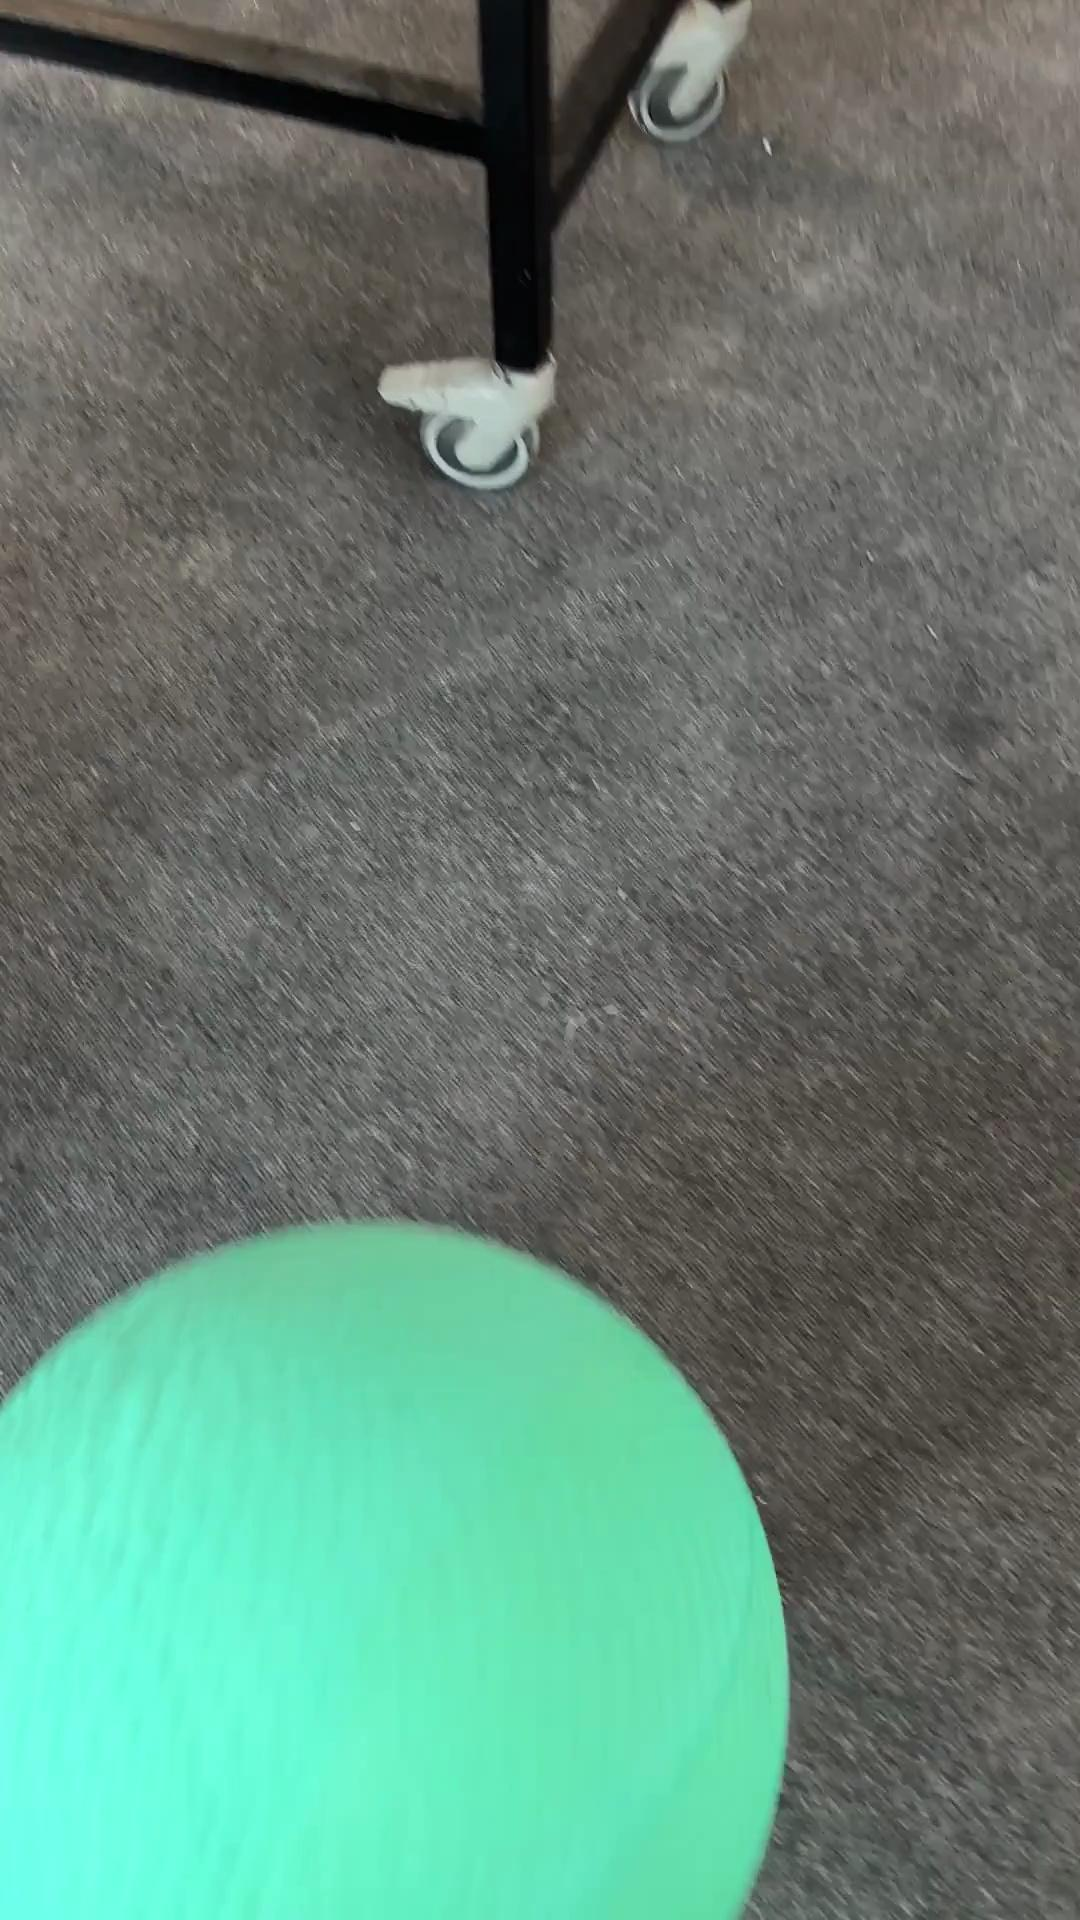ALGAE: (1, 1215, 793, 1916)
